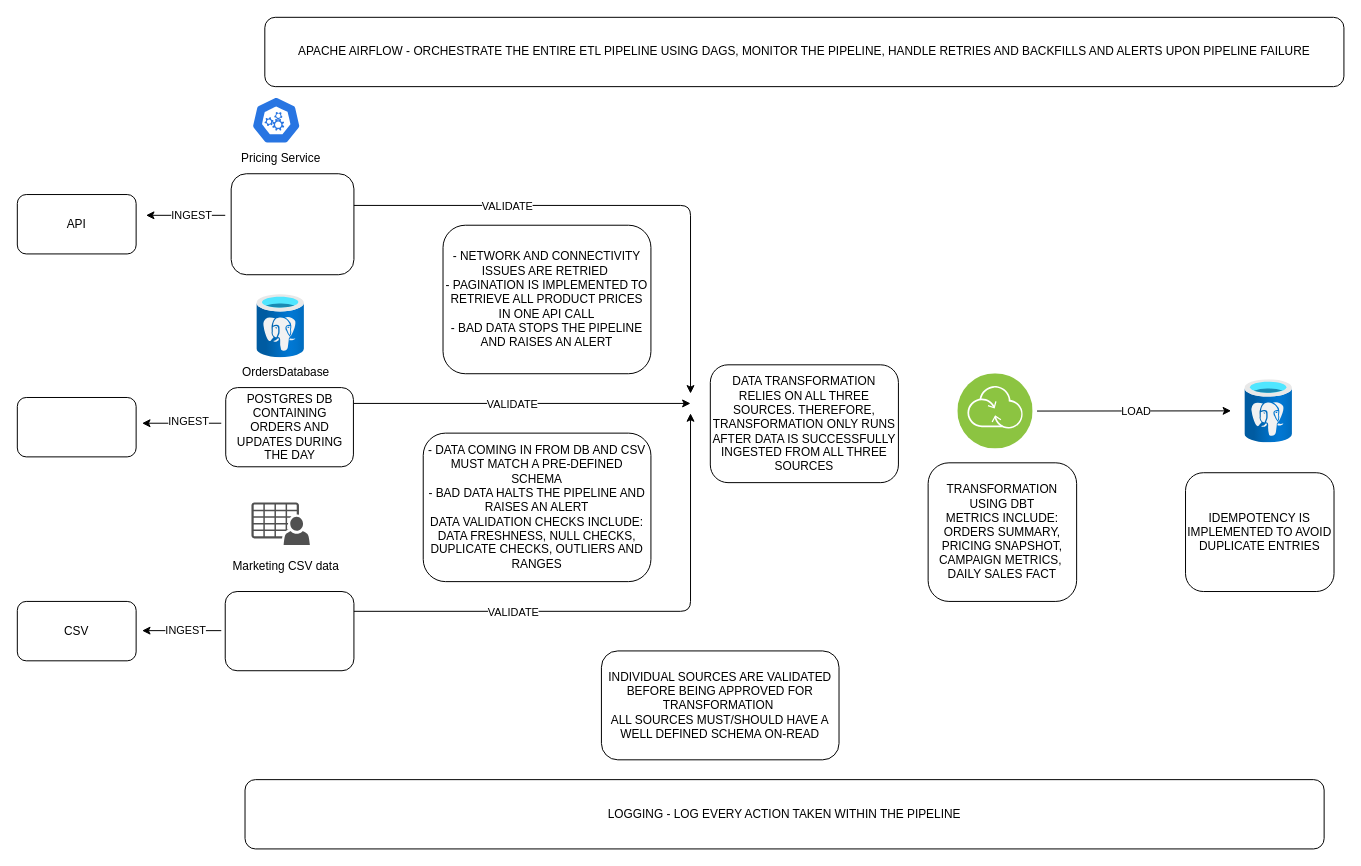
This 1361x866 diagram has some shape labels left out. Each missing label, with the centre of its shape:
"API REQUESTS FOR DAILY SNAPSHOT OF PRICES OF PRODUCTS THROUGHOUT THE DAY" goes at (292,224).
"CSV FILE CONTAINING MARKETING PERFORMANCE" goes at (289,631).
"DB" goes at (76,426).
